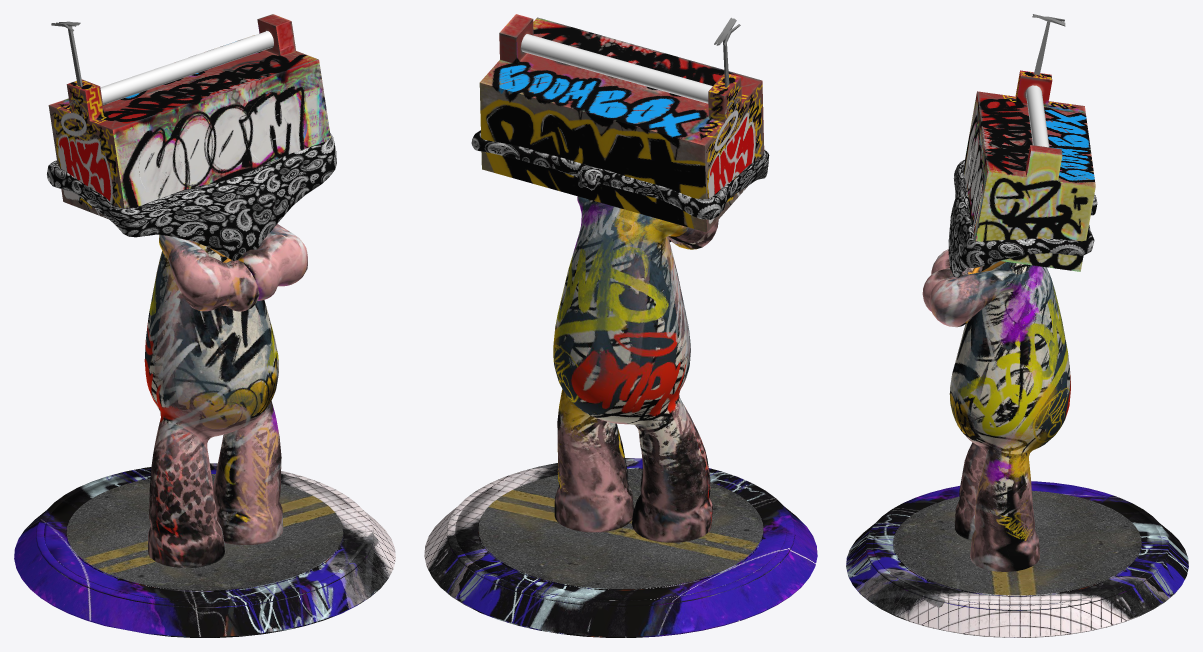
The picture shows the model from 3 angles, left to right: view 1: azimuth 30°, elevation 25°; view 2: azimuth 150°, elevation 25°; view 3: azimuth 270°, elevation 25°; orthographic projection. The views are drawn at different scales.
Visible parts, largest first — view 1: BBody; view 2: BBody; view 3: BBody.
Part boxes in pixels (x1=…): BBody: x1=14, y1=14, x2=395, y2=637; BBody: x1=424, y1=14, x2=817, y2=637; BBody: x1=846, y1=14, x2=1188, y2=637.
Bounding box in the file's own units: 1.45 × 2.33 × 1.45.
7 materials, 6 textured.
